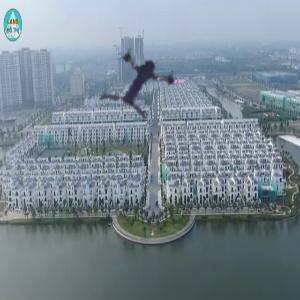drone: (95, 27, 193, 125)
